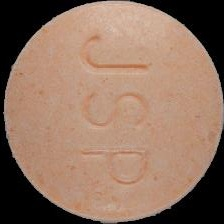50436-5503: (0, 0, 224, 224)
